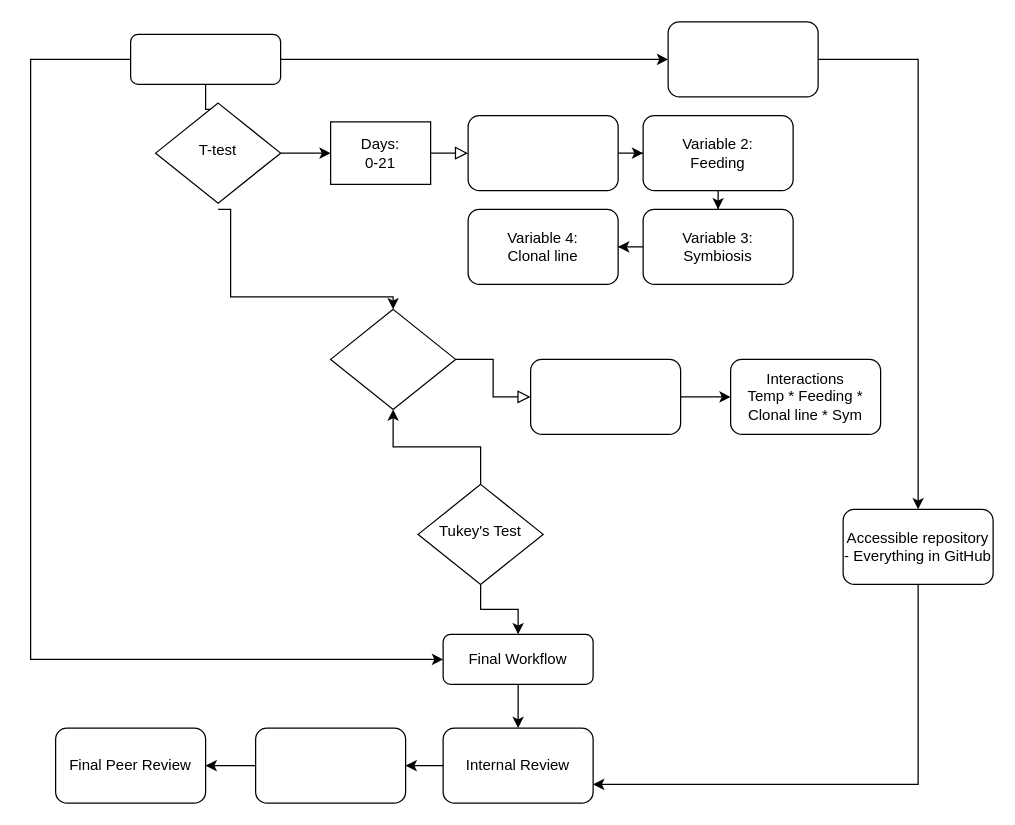
Image size: 1015x825. Some labels were removed from this diagram. The shapes that lost their labels are listed below. From the top down, each one's box as (x1, y1, x2, y2) in pixels, then its label:
(129, 33, 281, 84): Raw Data
(667, 21, 818, 97): Copy: Raw Data, Metadata
(467, 114, 618, 191): Variable 1: Temp
(329, 308, 456, 409): 2-Way ANOVA
(529, 358, 681, 434): No interactions Temp + Feeding + Clonal line + Sym
(254, 727, 406, 803): Informal External Review
